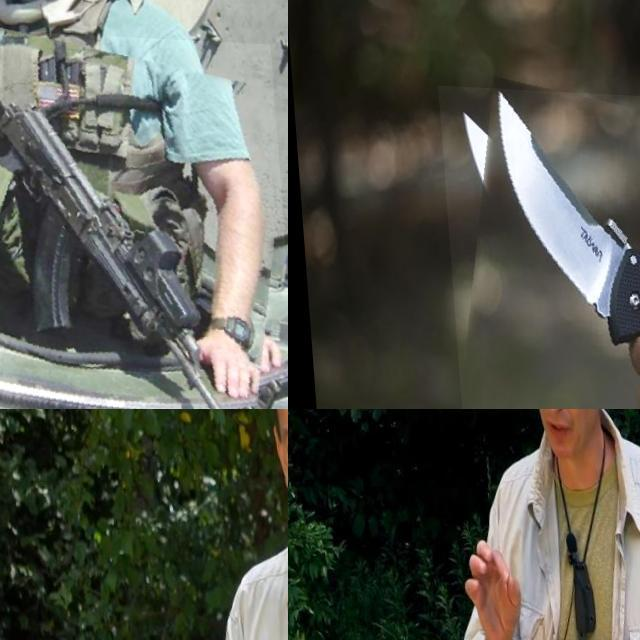-: (436, 84, 640, 409)
gun-knife-thesis - v11 Yolov5 augmented: (0, 23, 288, 409)
